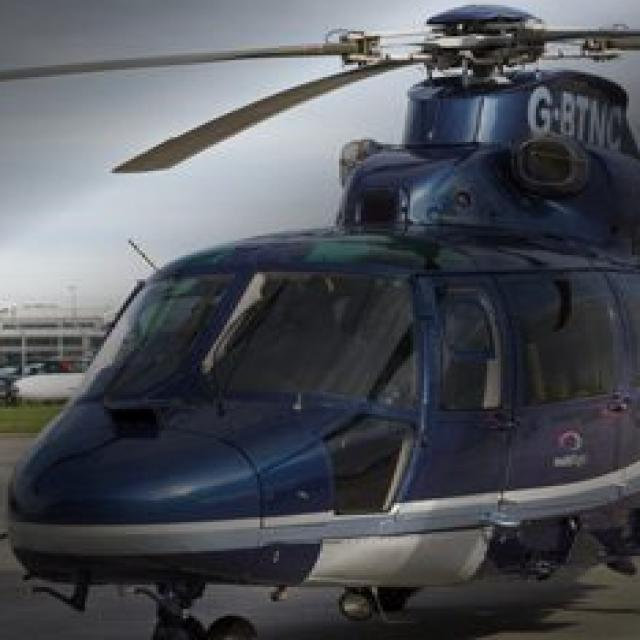helicopter: (1, 15, 640, 640)
